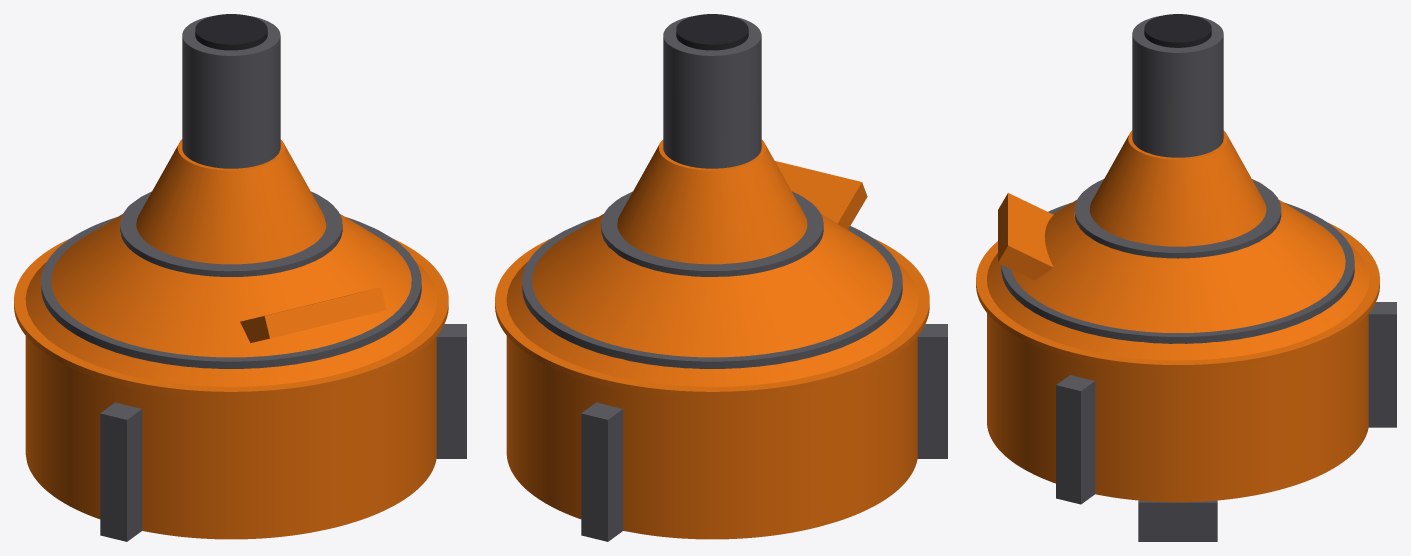
The model's file is Planetary_Concrete_Mixer_500L.glb.
3 views of the same model, side by side, from view 1: azimuth 30°, elevation 25°; view 2: azimuth 150°, elevation 25°; view 3: azimuth 270°, elevation 25° (orthographic). The views are drawn at different scales.
Visible parts, largest first — view 1: gearbox_5702c4, water_ring_7807a2, fan_cap_32d85b; view 2: gearbox_5702c4, water_ring_7807a2, fan_cap_32d85b; view 3: gearbox_5702c4, water_ring_7807a2, fan_cap_32d85b.
Part boxes in pixels (x1=…): gearbox_5702c4: x1=14, y1=139, x2=448, y2=539; water_ring_7807a2: x1=41, y1=16, x2=466, y2=541; fan_cap_32d85b: x1=195, y1=14, x2=267, y2=50; gearbox_5702c4: x1=495, y1=139, x2=929, y2=539; water_ring_7807a2: x1=522, y1=16, x2=947, y2=541; fan_cap_32d85b: x1=676, y1=14, x2=748, y2=50; gearbox_5702c4: x1=976, y1=130, x2=1379, y2=502; water_ring_7807a2: x1=1001, y1=15, x2=1396, y2=541; fan_cap_32d85b: x1=1144, y1=14, x2=1211, y2=47.
Size of the model in its own units: 33.6 by 39.68 by 34.99.
